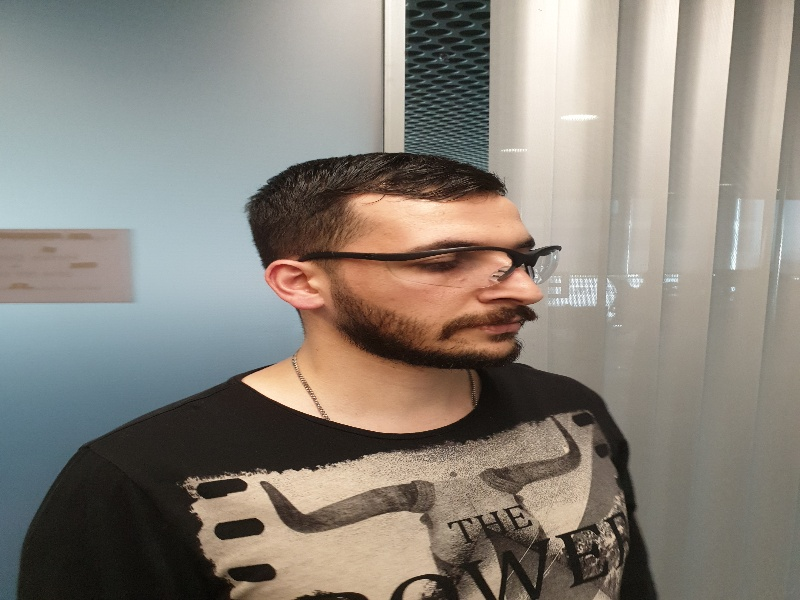Gozluk: (321, 245, 563, 288)
